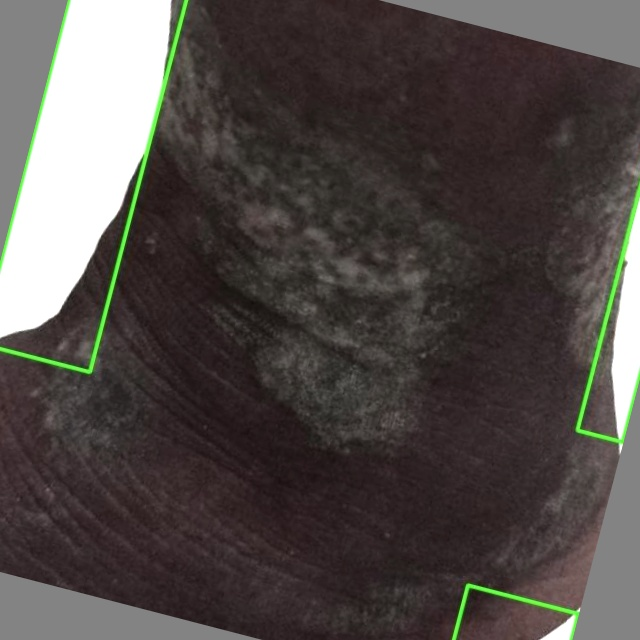Eczema: (0, 0, 186, 371)
